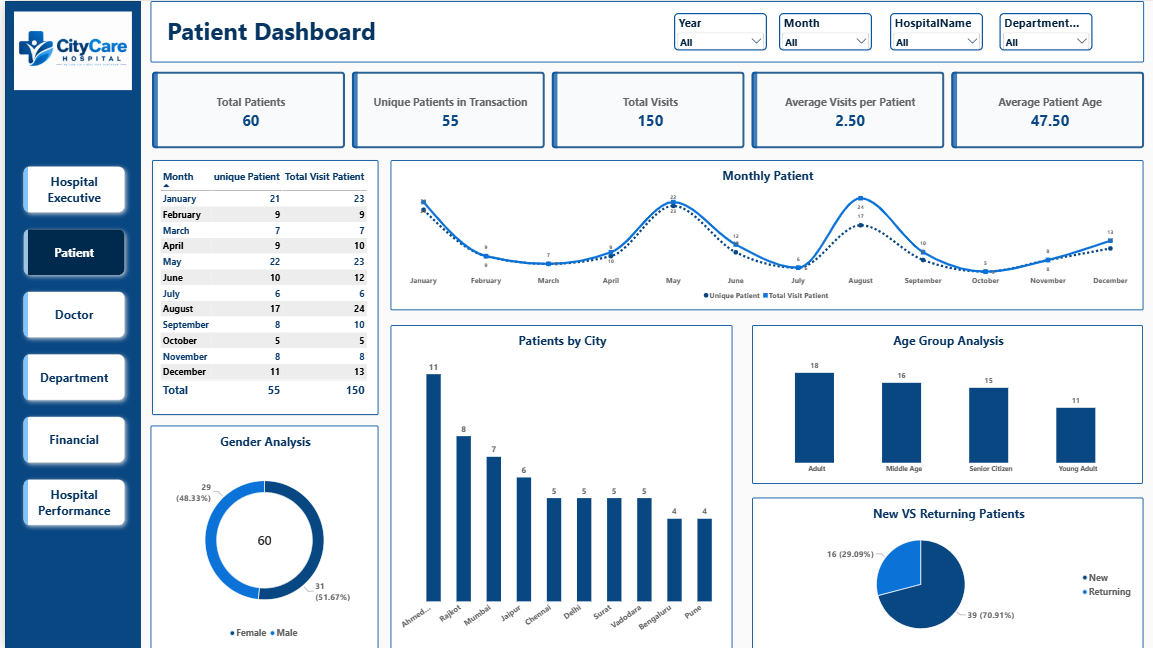

Layout of this report page (visuals, bound fields, positions):
{"tool":"powerbi","page":{"name":"Patient","canvas":[2560,1440],"ordinal":1},"visuals":[{"type":"shape","box":[324.5,0,2207.8,136.8],"z":0},{"type":"cardVisual","fields":{"Data":["Patients.Total Patients","Patients.Unique Patients in Transaction","Medical Transactions.Total Visits","Patients.Average Visits per Patient","Patients.Average Patient Age"]},"box":[327.1,155.4,2205.4,171.6],"z":1000},{"type":"pieChart","title":"New VS Returning Patients","fields":{"Y":["Count(Medical Transactions.PatientID)"],"Category":["Patients.Patient Type"]},"box":[1660,1103.3,870,336.7],"z":2000},{"type":"donutChart","title":"Gender Analysis","fields":{"Category":["Patients.Gender"],"Y":["Count(Patients.Patient ID)"]},"box":[323.3,943.3,506.7,496.7],"z":3000},{"type":"lineChart","title":"Monthly Patient","fields":{"Category":["Medical Transactions.AdmissionDate.Variation.Date Hierarchy.Month"],"Y":["Count(Medical Transactions.PatientID)","CountNonNull(Medical Transactions.PatientID)1"]},"box":[855.7,353.1,1673.3,334],"z":4000},{"type":"clusteredColumnChart","title":"Patients by City","fields":{"Category":["Patients.City"],"Y":["Count(Patients.Patient ID)"]},"box":[855.7,719,760.3,722.1],"z":5000},{"type":"textbox","box":[359.5,29.1,816.1,84.2],"z":6000},{"type":"slicer","fields":{"Values":["Medical Transactions.AdmissionDate.Variation.Date Hierarchy.Year"]},"box":[1486.7,26.7,206.7,83.3],"z":7000},{"type":"clusteredColumnChart","title":"Age Group Analysis","fields":{"Category":["Patients.Age Group"],"Y":["Count(Patients.Patient ID)"]},"box":[1660.6,719,868.5,353.1],"z":8000},{"type":"tableEx","fields":{"Values":["Medical Transactions.AdmissionDate.Variation.Date Hierarchy.Month","Medical Transactions.PatientID","Medical Transactions.PatientID1"]},"box":[326.7,353.3,503.3,566.7],"z":9000},{"type":"slicer","fields":{"Values":["Hospitals.HospitalName"]},"box":[1966.7,26.7,206.7,83.3],"z":10000},{"type":"slicer","fields":{"Values":["Medical Transactions.AdmissionDate.Variation.Date Hierarchy.Month"]},"box":[1720,26.7,206.7,83.3],"z":11000},{"type":"slicer","fields":{"Values":["Departments.DepartmentName"]},"box":[2210,26.7,206.7,83.3],"z":12000},{"type":"shape","box":[0,0,302.2,1441.1],"z":13000},{"type":"pageNavigator","box":[25.4,353.1,254.5,830.3],"z":14000},{"type":"image","box":[0,22.3,302.2,175],"z":15000}]}

Visuals, with their boxes on the page's 2560x1440 design canvas (x1, y1, x2, y2). These are canvas units, not pixel positions in the 1153x648 screenshot, which may show the page scaled, cropped or inside an application window:
shape: (324, 0, 2532, 137)
cardVisual - Patients.Total Patients x Patients.Unique Patients in Transaction: (327, 155, 2532, 327)
"New VS Returning Patients" pieChart: (1660, 1103, 2530, 1440)
"Gender Analysis" donutChart: (323, 943, 830, 1440)
"Monthly Patient" lineChart: (856, 353, 2529, 687)
"Patients by City" clusteredColumnChart: (856, 719, 1616, 1441)
textbox: (360, 29, 1176, 113)
slicer - Medical Transactions.AdmissionDate.Variation.Date Hierarchy.Year: (1487, 27, 1693, 110)
"Age Group Analysis" clusteredColumnChart: (1661, 719, 2529, 1072)
tableEx - Medical Transactions.AdmissionDate.Variation.Date Hierarchy.Month x Medical Transactions.PatientID: (327, 353, 830, 920)
slicer - Hospitals.HospitalName: (1967, 27, 2173, 110)
slicer - Medical Transactions.AdmissionDate.Variation.Date Hierarchy.Month: (1720, 27, 1927, 110)
slicer - Departments.DepartmentName: (2210, 27, 2417, 110)
shape: (0, 0, 302, 1441)
pageNavigator: (25, 353, 280, 1183)
image: (0, 22, 302, 197)
